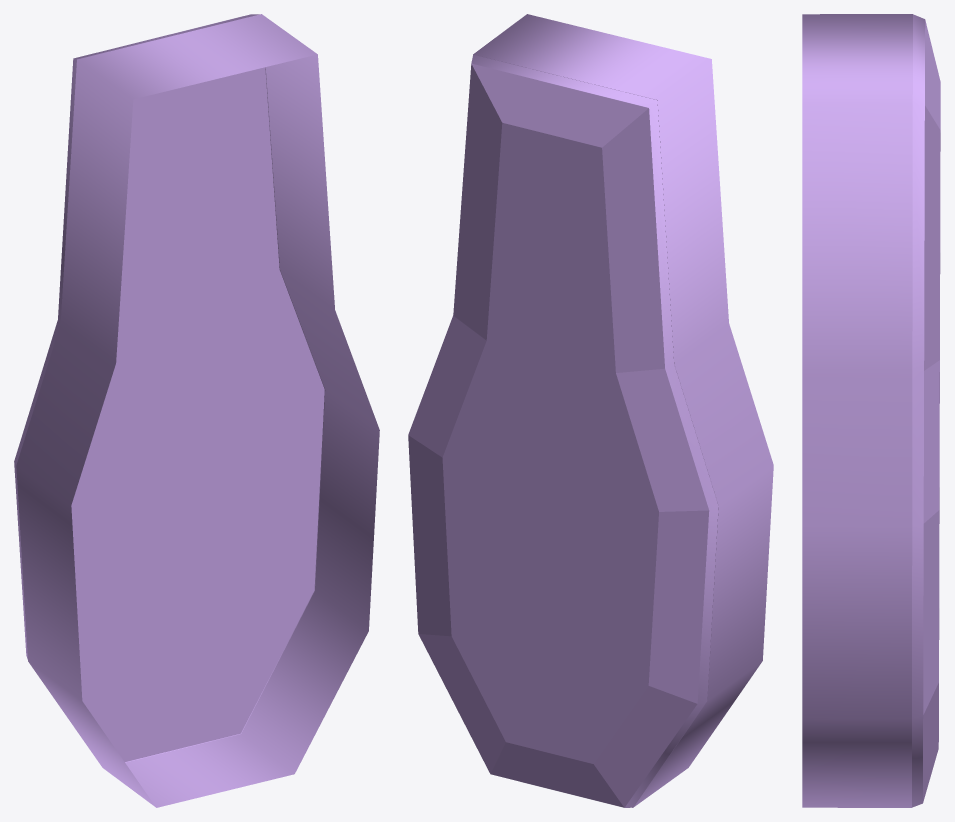
3 views of the same model, side by side, from view 1: azimuth 30°, elevation 25°; view 2: azimuth 150°, elevation 25°; view 3: azimuth 270°, elevation 25° (orthographic).
Visible parts, largest first — view 1: Object92; view 2: Object92; view 3: Object92.
Part boxes in pixels (x1,y1,x2,y2): Object92: [14, 14, 379, 807]; Object92: [408, 14, 773, 807]; Object92: [802, 14, 940, 807].
Bounding box in the file's own units: 9728 × 21535 × 3776.
